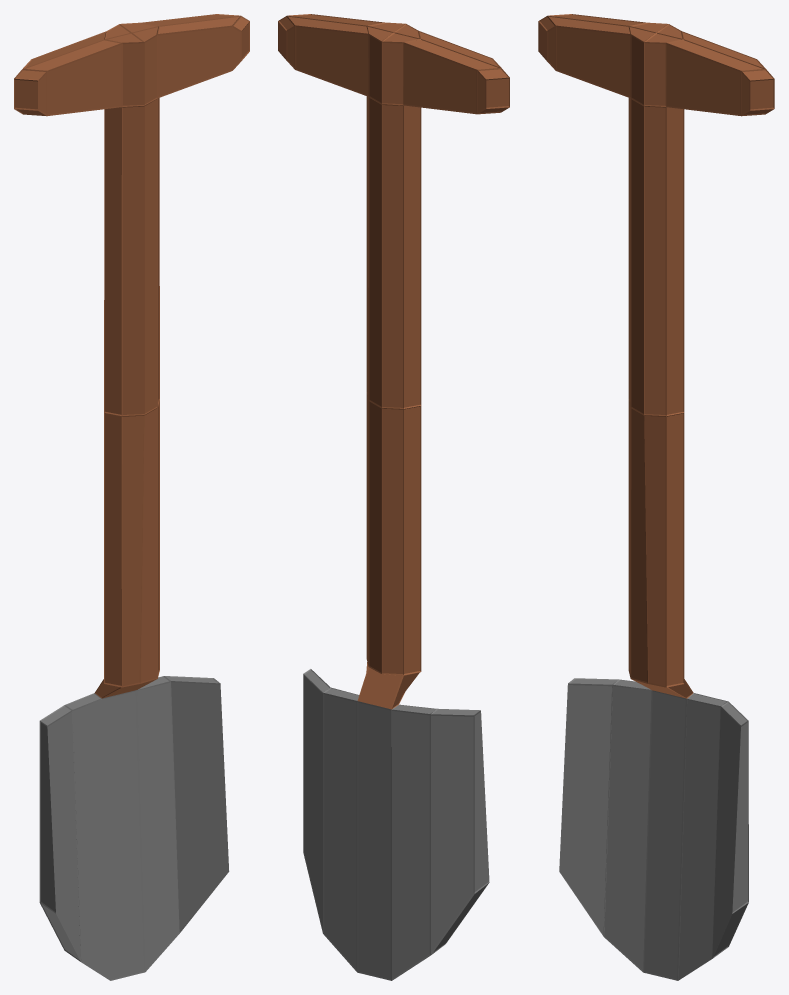
File: Shovel-1.fbx
3 views of the same model, side by side, from view 1: azimuth 30°, elevation 25°; view 2: azimuth 150°, elevation 25°; view 3: azimuth 330°, elevation 25° (orthographic).
Parts seen in each view (by area): view 1: Shovel; view 2: Shovel; view 3: Shovel.
Boxes of the visible parts, <box> form: Shovel: <box>14,14,249,980</box>; Shovel: <box>278,14,509,980</box>; Shovel: <box>538,14,774,980</box>.
Size of the model in its own units: 273 by 64.49 by 1047.
